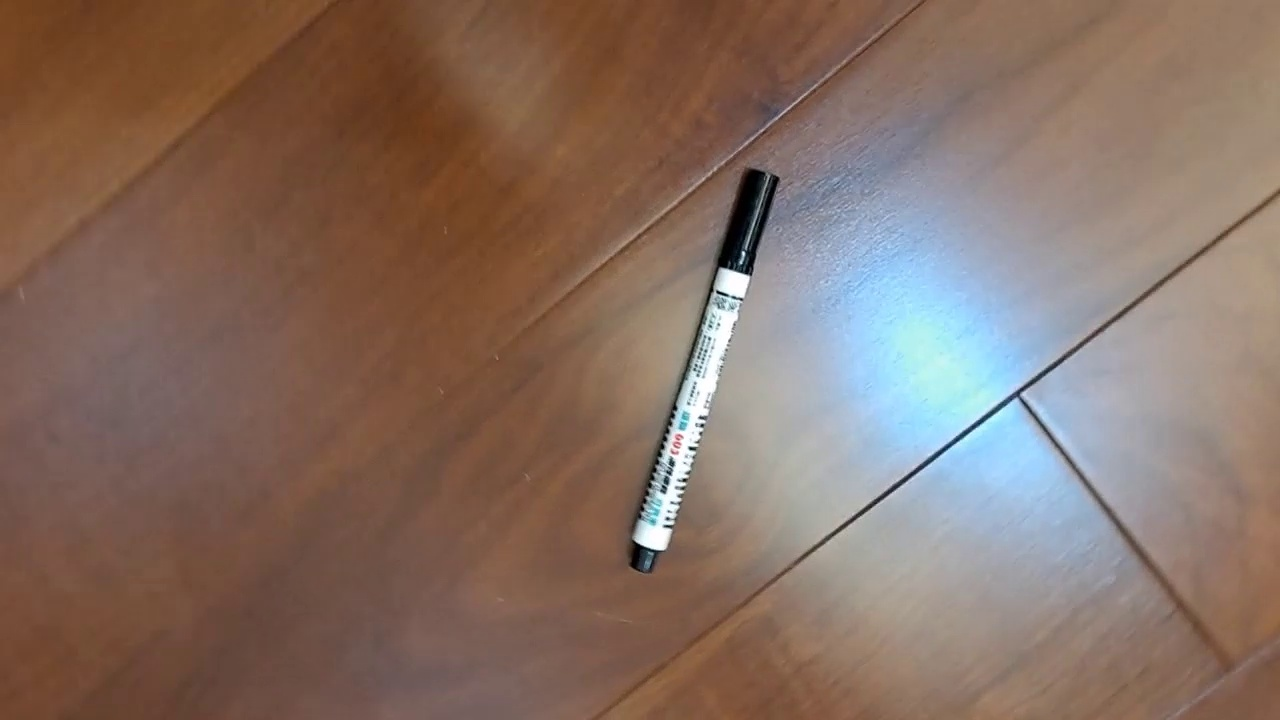pen: (626, 165, 782, 575)
